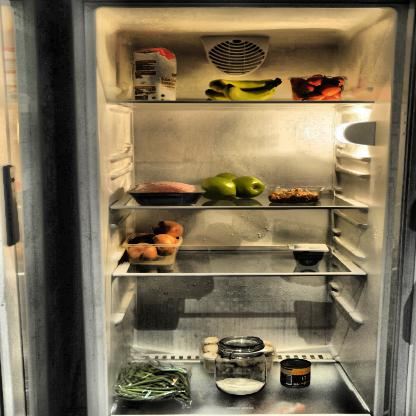apple: (199, 167, 266, 201)
banana: (202, 78, 285, 100)
corn: (280, 358, 312, 390)
green_beans: (111, 360, 195, 404)
ground_beef: (130, 180, 203, 209)
mushrooms: (201, 335, 280, 373)
onion: (127, 220, 183, 264)
shrimp: (268, 185, 324, 204)
strawberries: (288, 75, 349, 104)
